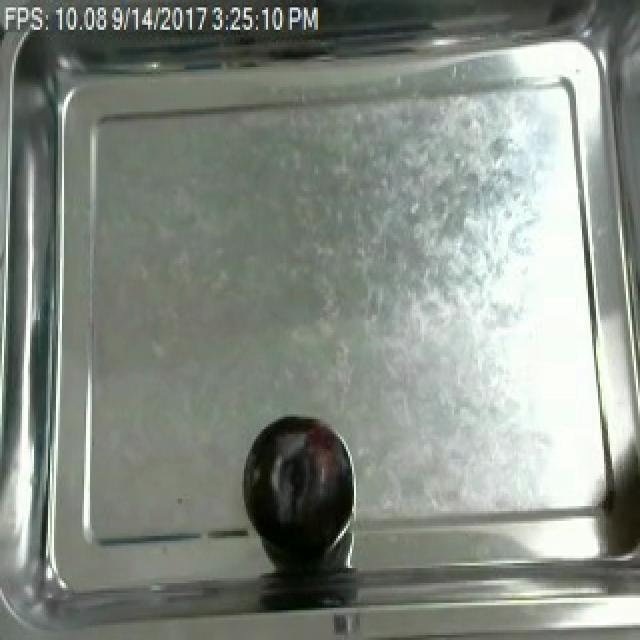Fruit: (240, 409, 354, 551)
